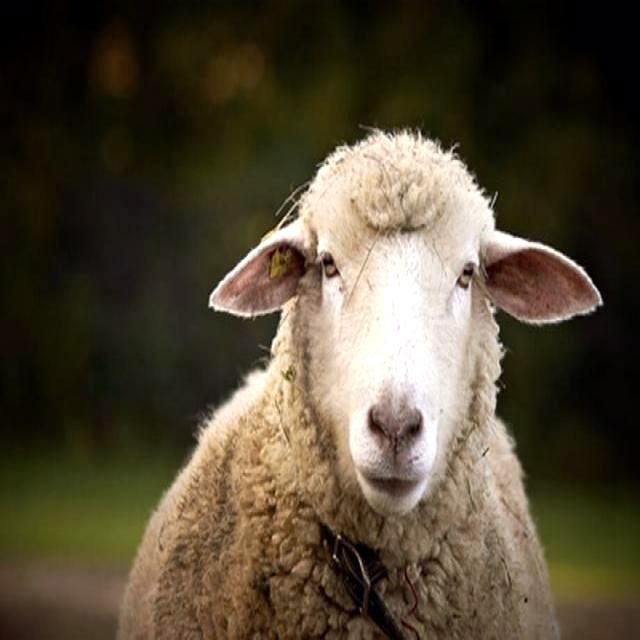sheep: (118, 133, 607, 640)
